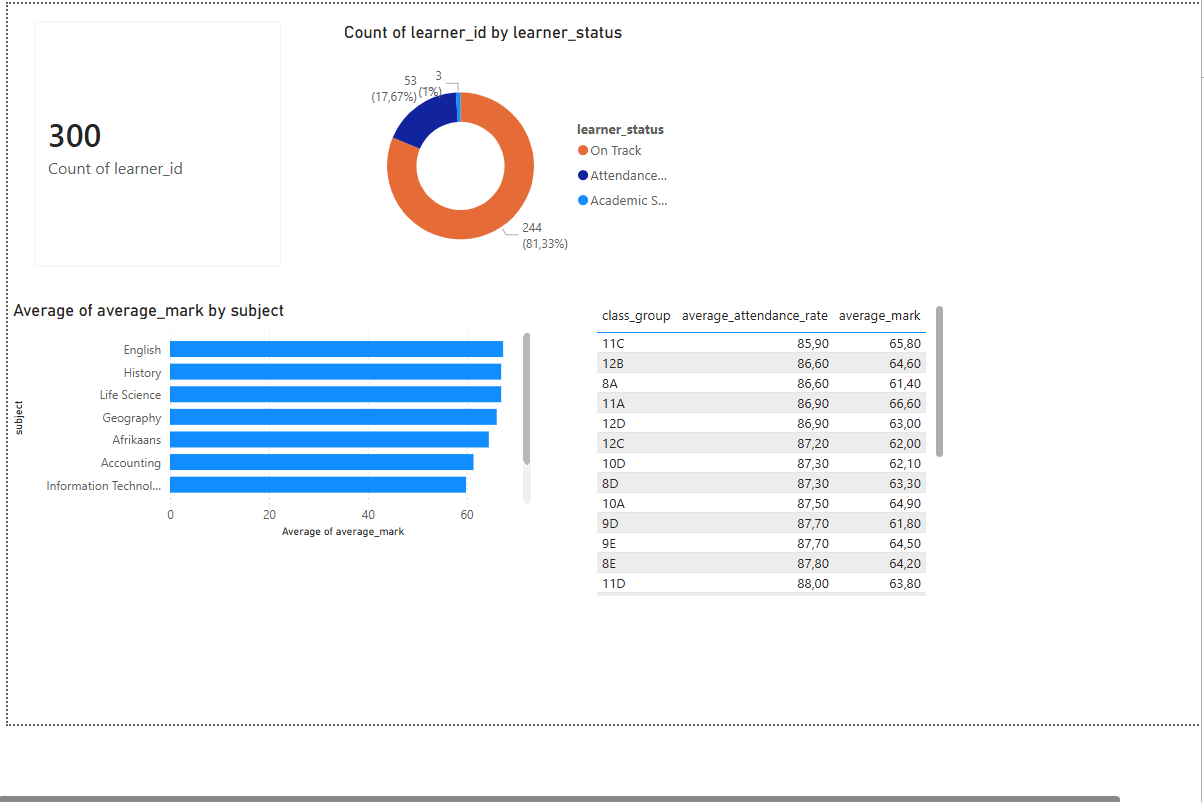

What the dashboard file says about the page in this screenshot:
{"tool":"powerbi","page":{"name":"Executive Overview","canvas":[1280,720],"ordinal":0},"visuals":[{"type":"cardVisual","fields":{"Data":["CountNonNull(learner_summary.learner_id)"]},"box":[10,0,280,280],"z":0},{"type":"donutChart","fields":{"Category":["learner_summary.learner_status"],"Y":["CountNonNull(learner_summary.learner_id)"]},"box":[330.7,17.5,343.3,269.4],"z":1000},{"type":"clusteredBarChart","fields":{"Category":["subject_summary.subject"],"Y":["Avg(subject_summary.average_mark)"]},"box":[0,296,528,242],"z":2000},{"type":"tableEx","fields":{"Values":["combined_class_summary.class_group","combined_class_summary.average_attendance_rate","combined_class_summary.average_mark"]},"box":[583,296,498,301],"z":3000}]}

Visuals, with their boxes on the page's 1280x720 design canvas (x1, y1, x2, y2). These are canvas units, not pixel positions in the 1204x802 screenshot, which may show the page scaled, cropped or inside an application window:
cardVisual - CountNonNull(learner_summary.learner_id): x1=10 y1=0 x2=290 y2=280
donutChart - learner_summary.learner_status x CountNonNull(learner_summary.learner_id): x1=331 y1=18 x2=674 y2=287
clusteredBarChart - subject_summary.subject x Avg(subject_summary.average_mark): x1=0 y1=296 x2=528 y2=538
tableEx - combined_class_summary.class_group x combined_class_summary.average_attendance_rate: x1=583 y1=296 x2=1081 y2=597
